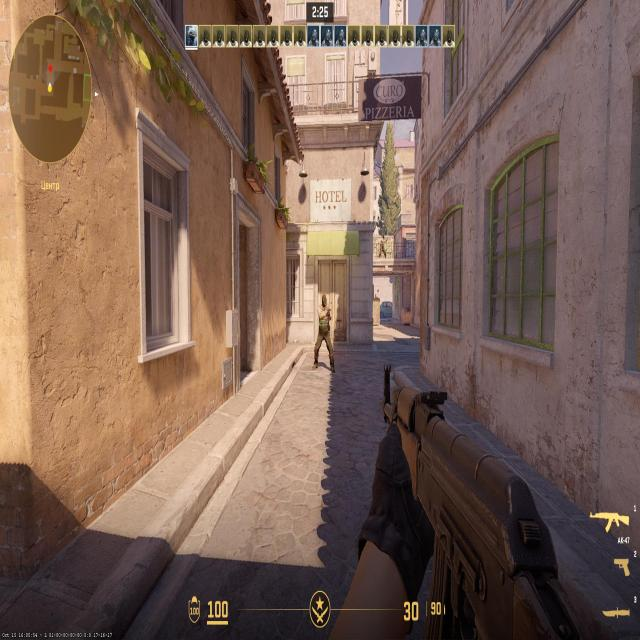T: (317, 294, 332, 372)
T_heat: (322, 294, 328, 306)
